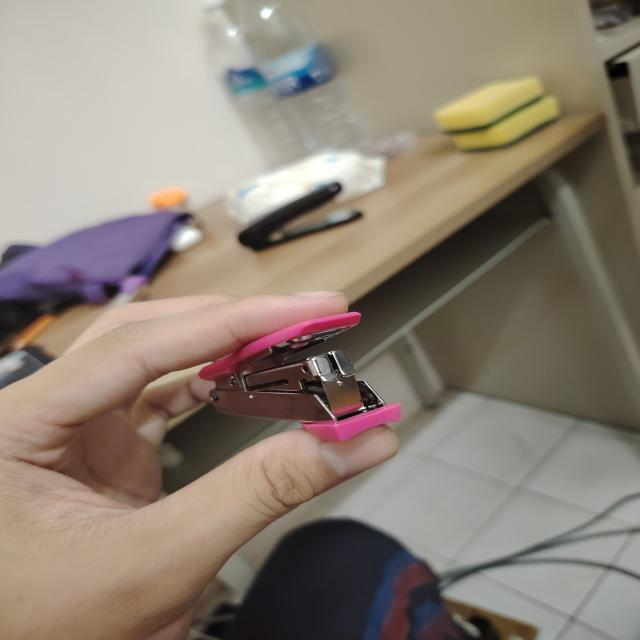stapler: (199, 312, 401, 441), (239, 182, 362, 251)
